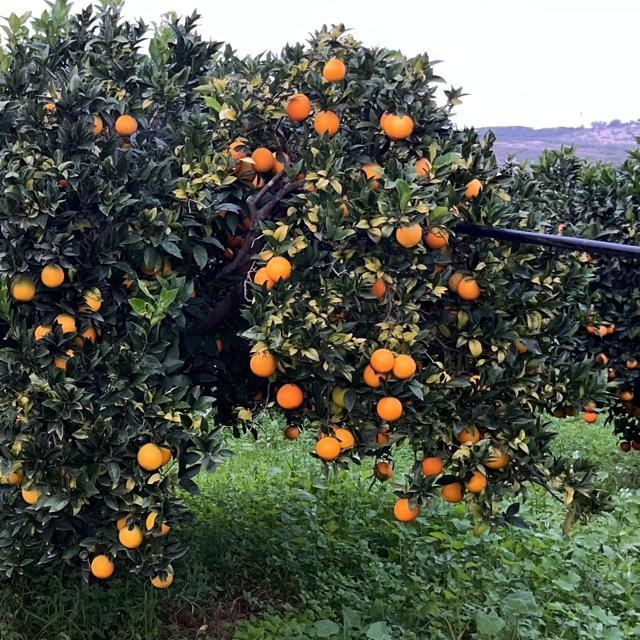orange: (249, 347, 275, 377), (313, 434, 341, 458), (90, 552, 114, 576), (286, 94, 310, 118), (278, 382, 302, 406), (144, 511, 168, 535), (40, 263, 66, 285), (10, 276, 36, 298), (457, 423, 483, 445), (137, 444, 159, 468), (378, 396, 402, 418), (394, 498, 416, 520), (82, 287, 104, 309), (387, 115, 411, 135), (394, 354, 414, 378), (484, 448, 508, 468), (315, 113, 337, 133), (396, 226, 418, 246), (420, 455, 442, 475), (267, 257, 289, 277), (0, 463, 22, 483), (413, 155, 433, 177), (77, 327, 99, 347), (372, 348, 392, 370), (117, 114, 137, 134), (459, 277, 479, 297), (465, 474, 485, 494), (252, 149, 272, 169), (333, 425, 353, 445), (152, 567, 172, 587), (424, 227, 446, 245), (52, 350, 74, 368), (121, 528, 141, 546), (22, 486, 42, 504), (58, 313, 76, 333), (34, 322, 52, 340), (324, 62, 344, 78), (254, 267, 270, 287), (441, 483, 461, 499), (88, 115, 104, 135), (362, 368, 380, 384), (364, 162, 382, 178), (231, 139, 247, 157), (273, 150, 287, 170), (465, 181, 481, 197), (236, 163, 252, 179), (373, 427, 389, 443), (374, 463, 392, 477), (337, 196, 351, 214), (225, 152, 239, 170), (249, 174, 263, 192), (116, 515, 136, 527), (469, 376, 485, 390), (373, 279, 385, 297), (626, 358, 638, 376), (450, 272, 462, 290), (160, 446, 170, 466), (123, 275, 137, 289), (42, 103, 58, 115), (617, 388, 633, 400), (156, 260, 172, 272), (334, 388, 346, 404), (284, 427, 298, 439), (238, 218, 252, 230), (228, 233, 240, 245), (142, 264, 156, 274), (382, 110, 388, 130), (583, 411, 595, 421), (595, 353, 607, 363), (440, 246, 452, 256), (432, 261, 442, 271), (120, 138, 130, 148), (555, 222, 565, 232), (553, 410, 565, 418), (565, 407, 577, 415), (368, 181, 378, 189), (222, 247, 232, 255), (253, 392, 263, 400), (597, 325, 605, 335), (584, 401, 594, 409), (215, 339, 221, 351), (304, 183, 316, 189), (621, 442, 629, 450), (298, 172, 306, 180), (59, 178, 69, 184), (608, 369, 616, 375), (627, 405, 633, 413), (238, 238, 246, 244), (632, 441, 638, 449), (607, 324, 613, 332), (518, 346, 526, 352), (583, 254, 591, 260), (635, 409, 639, 419), (218, 210, 224, 216), (587, 324, 593, 330), (404, 399, 410, 405)
